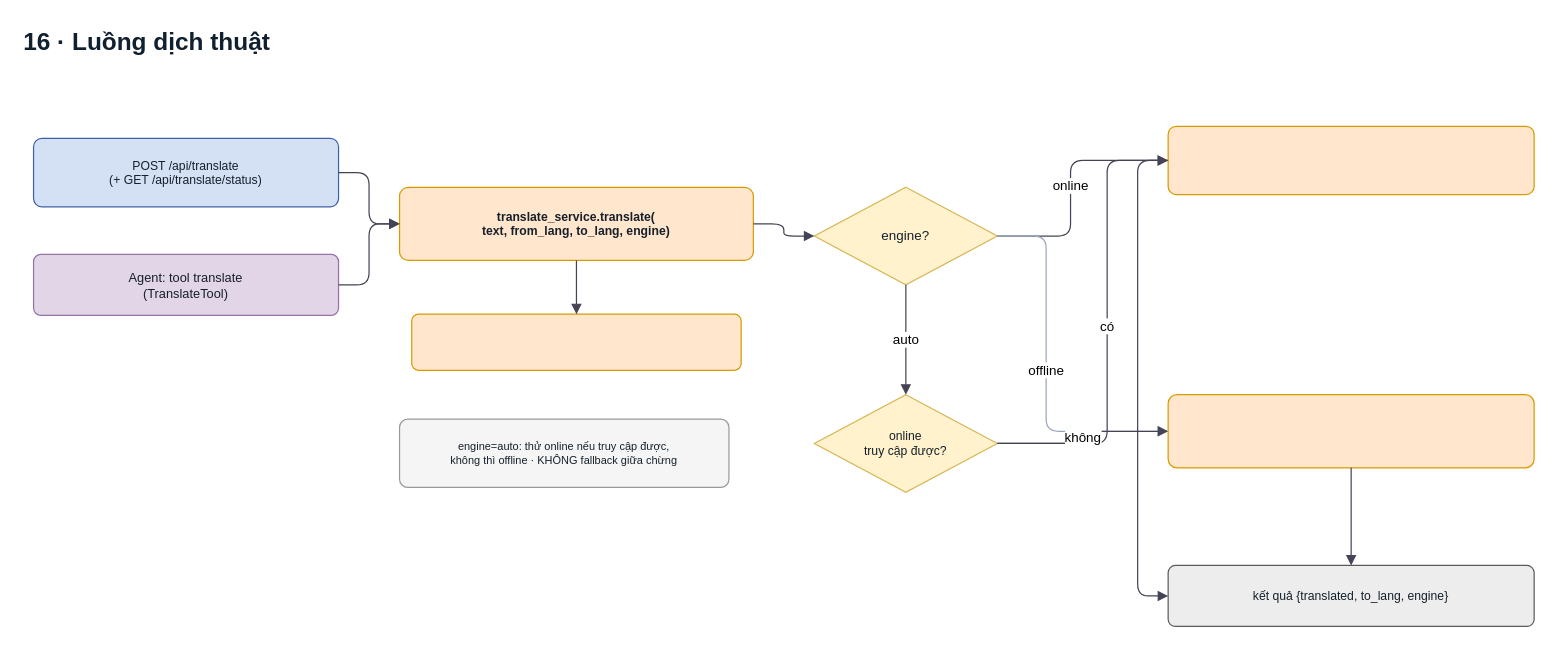
This 1556x648 diagram has some shape labels left out. Here are the shapes that lost their labels. From the top down, the centre of each, then its label:
At pixel 1350 160: "Google Translate (deep_translator)".
At pixel 576 341: "nhận diện ngôn ngữ (langdetect) from_lang = auto".
At pixel 1350 430: "Argos Translate / CTranslate2 (offline · đã vá Stanza)".
